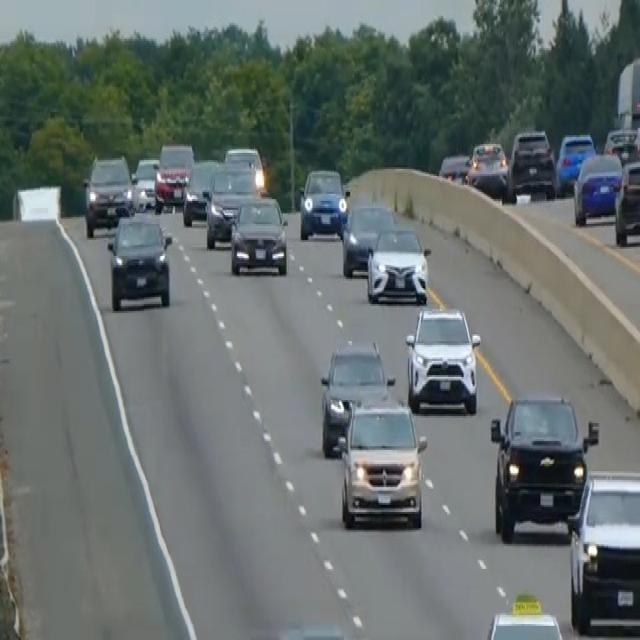car: (489, 390, 598, 542), (566, 468, 639, 634), (319, 338, 394, 457), (404, 302, 481, 414), (106, 212, 173, 311), (366, 222, 430, 304), (204, 160, 261, 249), (229, 194, 288, 276), (82, 151, 133, 235), (477, 592, 568, 638), (341, 199, 394, 277), (572, 149, 623, 226), (298, 165, 348, 240), (506, 128, 556, 201), (154, 140, 194, 208), (181, 156, 219, 226), (555, 130, 596, 194), (465, 138, 508, 196), (613, 155, 639, 245), (223, 144, 266, 192), (131, 154, 160, 212), (603, 125, 639, 167), (438, 151, 470, 185)
minivan: (335, 389, 428, 532)
